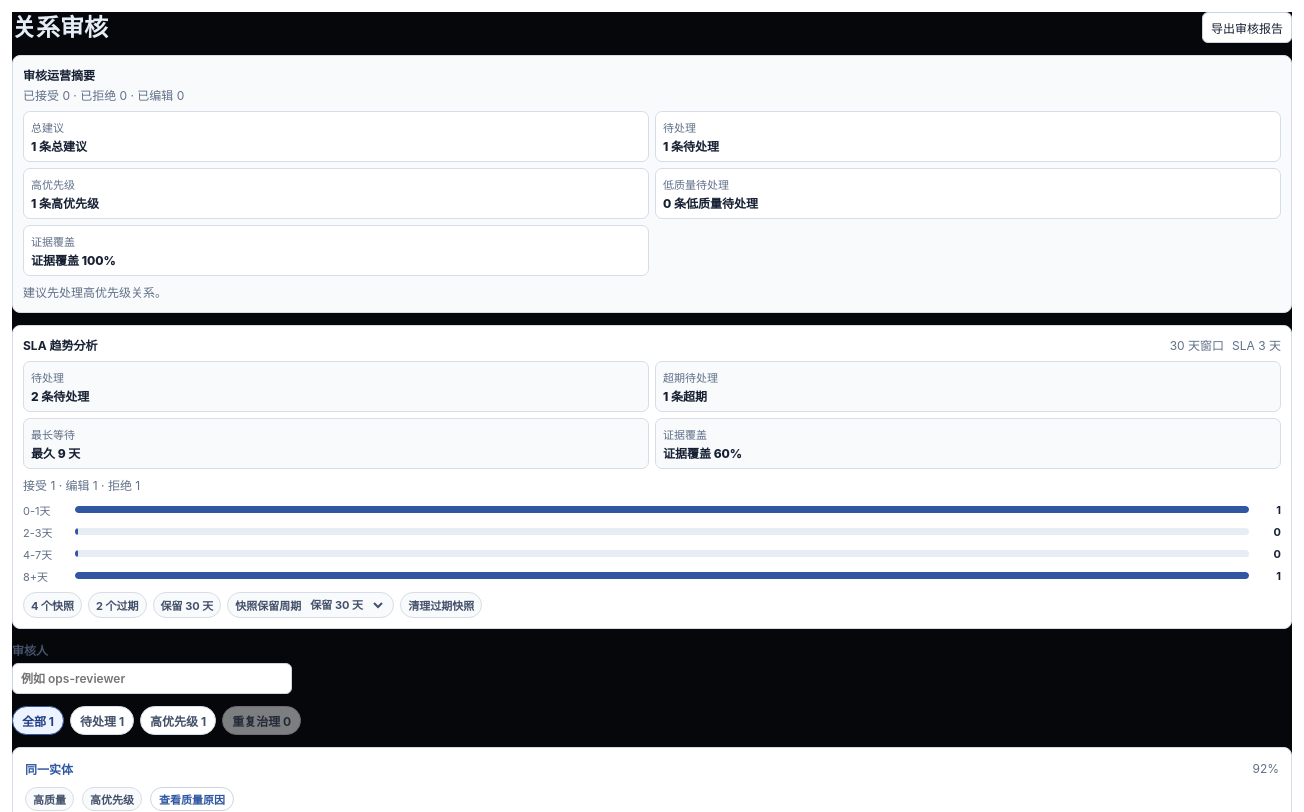
Test: RelationshipReview › uses the selected retention window and records local cleanup history
Select "保留 90 天" in the dropdown labelled "快照保留周期" at (346, 605), box [306, 597, 386, 613]
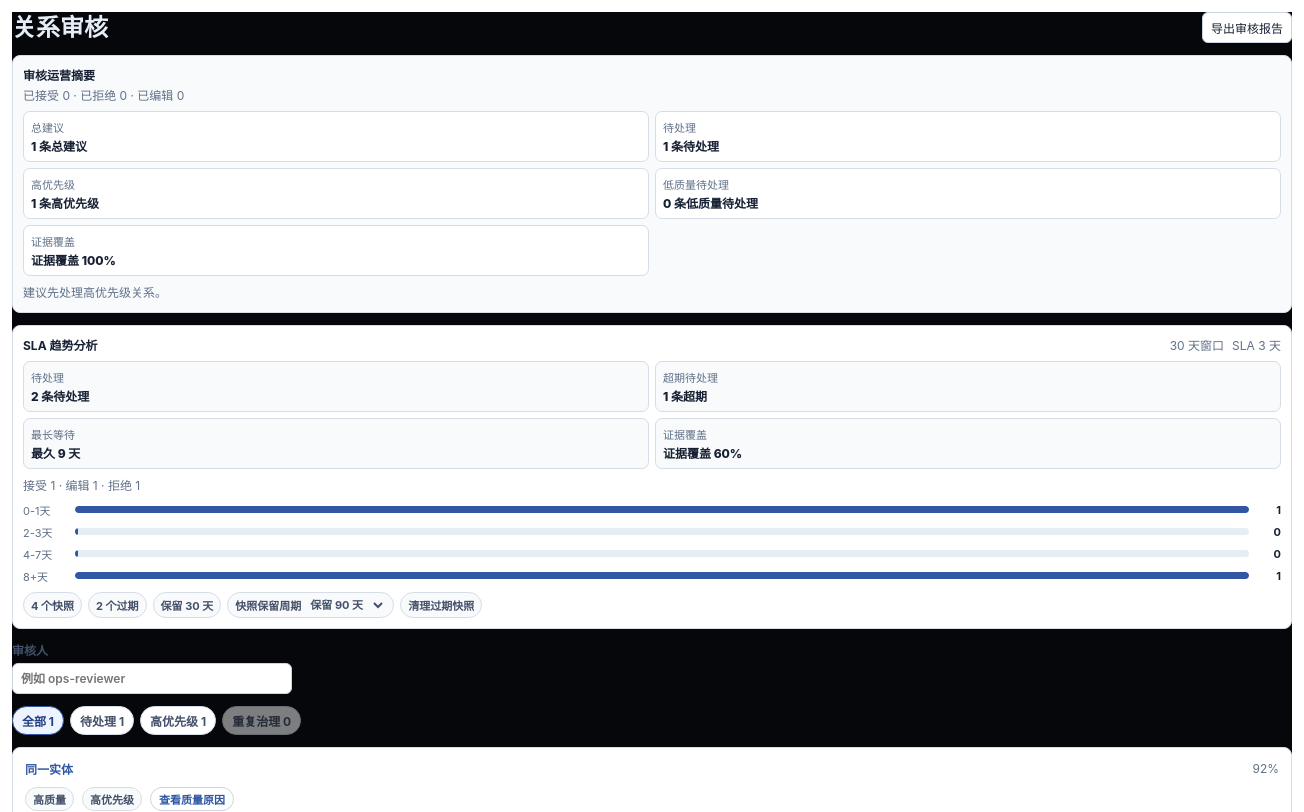
Click the button "清理过期快照".
click(441, 605)  # box [400, 592, 482, 618]
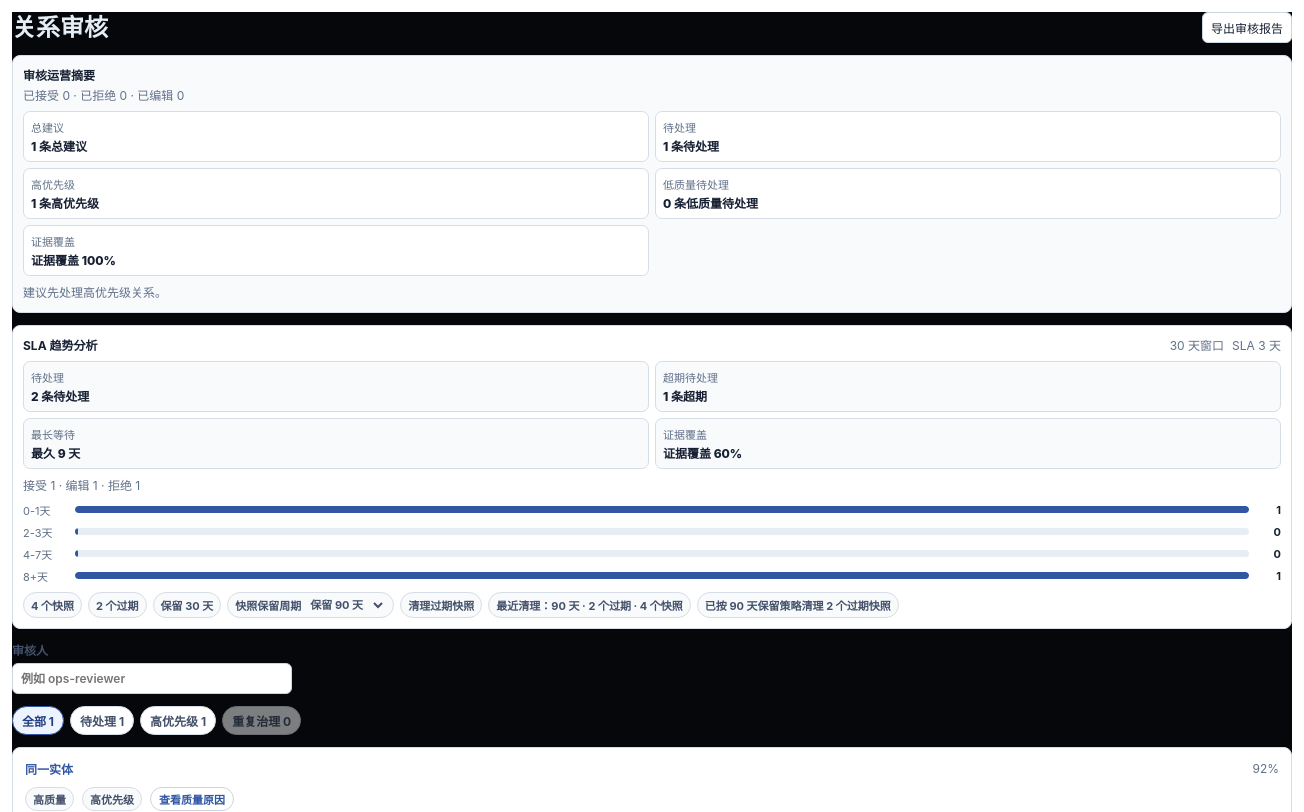
Expected: the text "最近清理：90 天 · 2 个过期 · 4 个快照" is shown, [488, 592, 691, 618]
